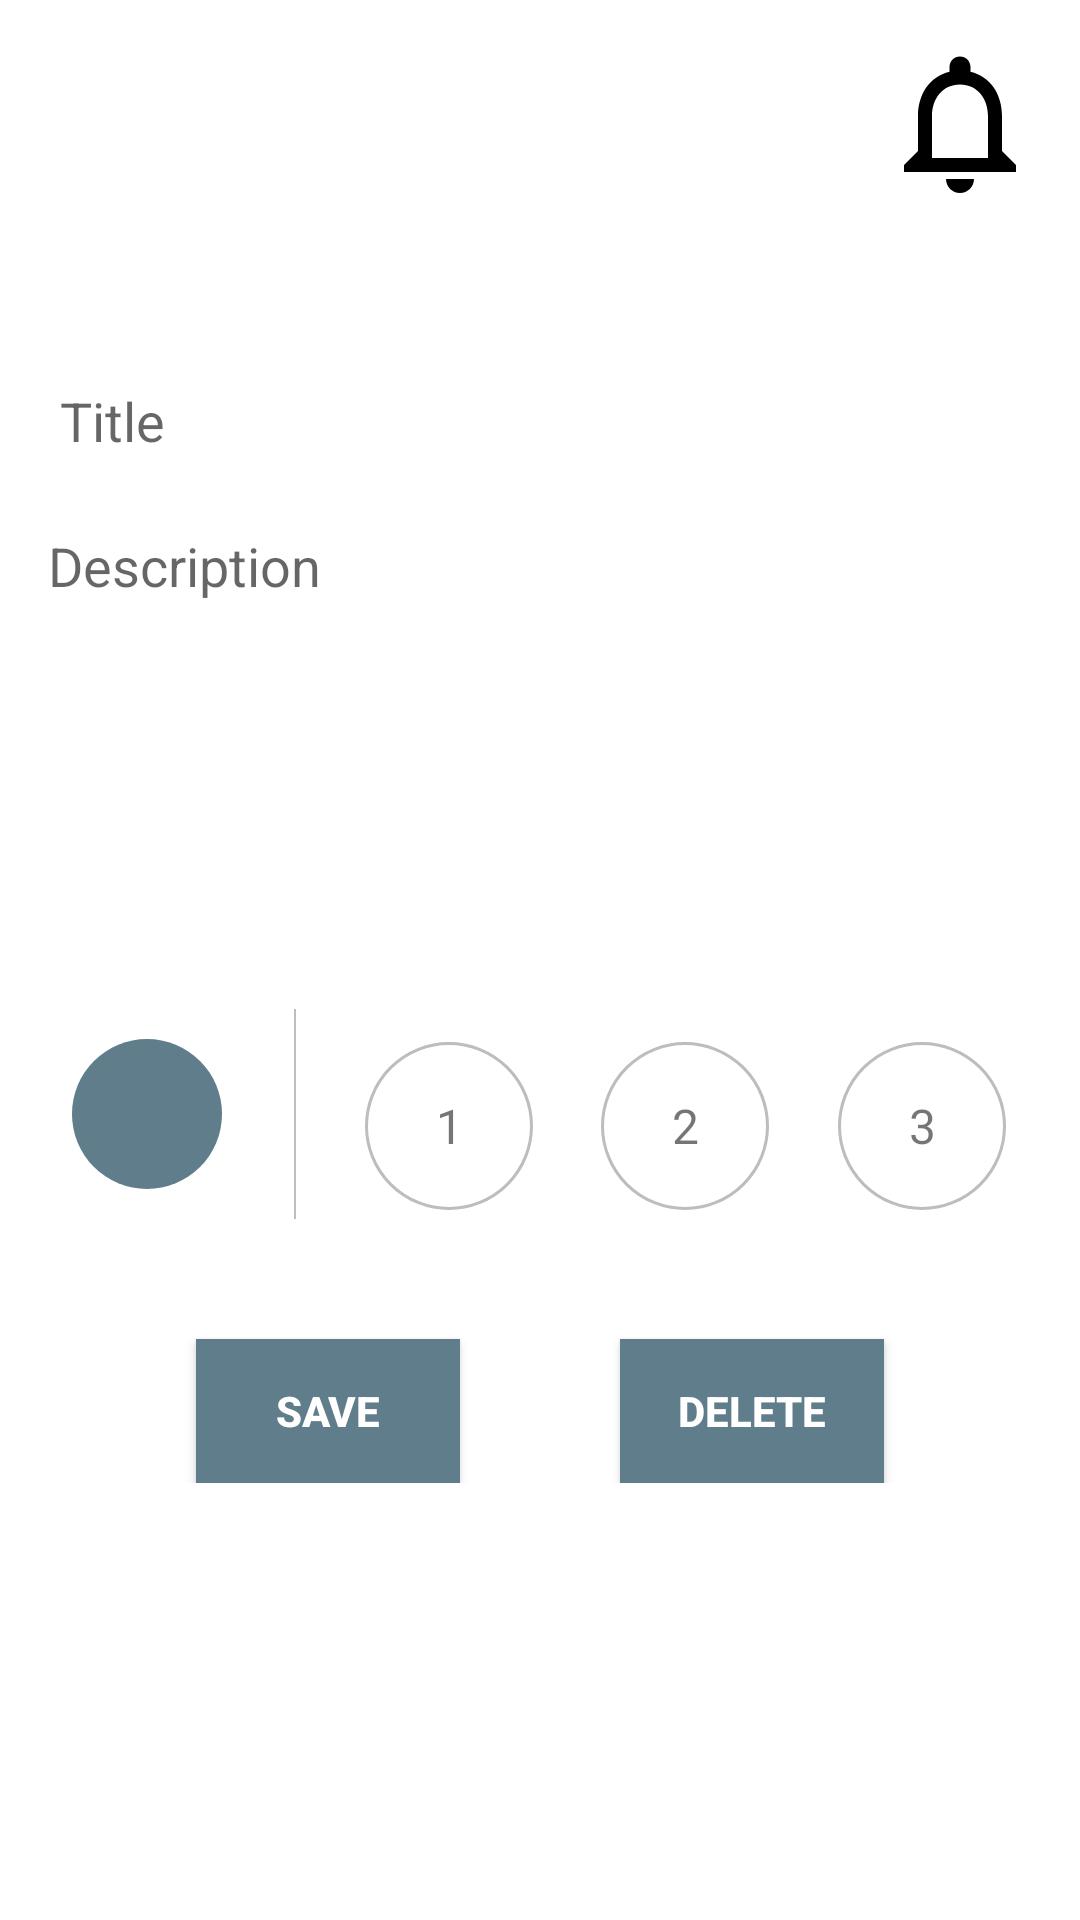

Icons on this 1080×1920 Android screen, each with the point to tap as (x=x, y=y):
Select to notify: (x=960, y=124)
